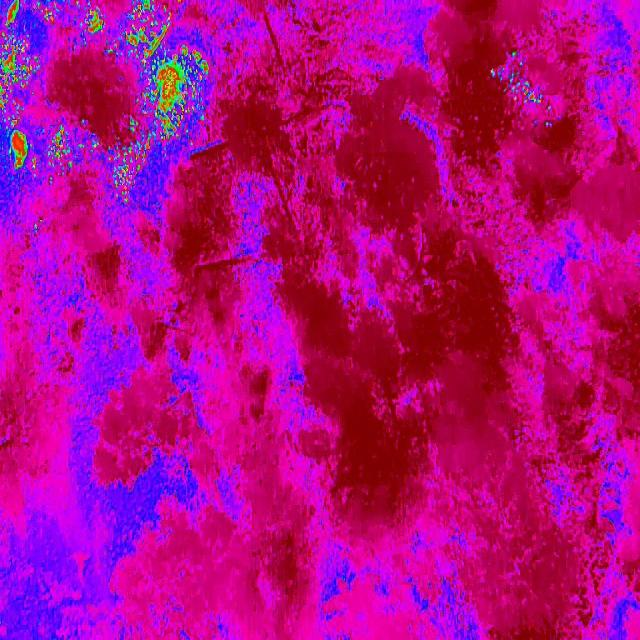fire: (0, 0, 43, 192), (128, 41, 211, 140), (106, 120, 156, 199), (80, 0, 173, 40), (43, 117, 100, 178), (102, 39, 128, 62), (44, 0, 64, 28)
